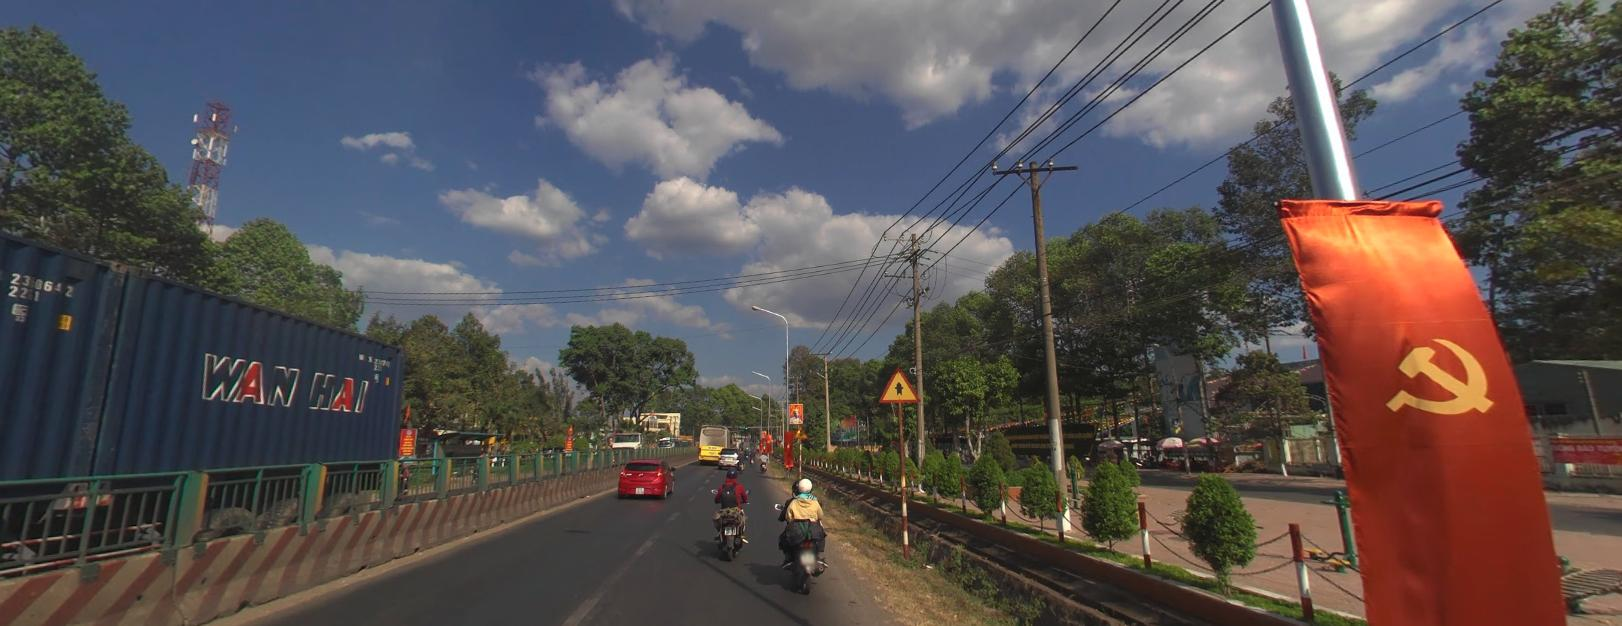Nguy hiem: (878, 364, 920, 402), (877, 365, 920, 402), (879, 366, 918, 401), (793, 423, 808, 437), (792, 424, 807, 437), (795, 424, 807, 437)
